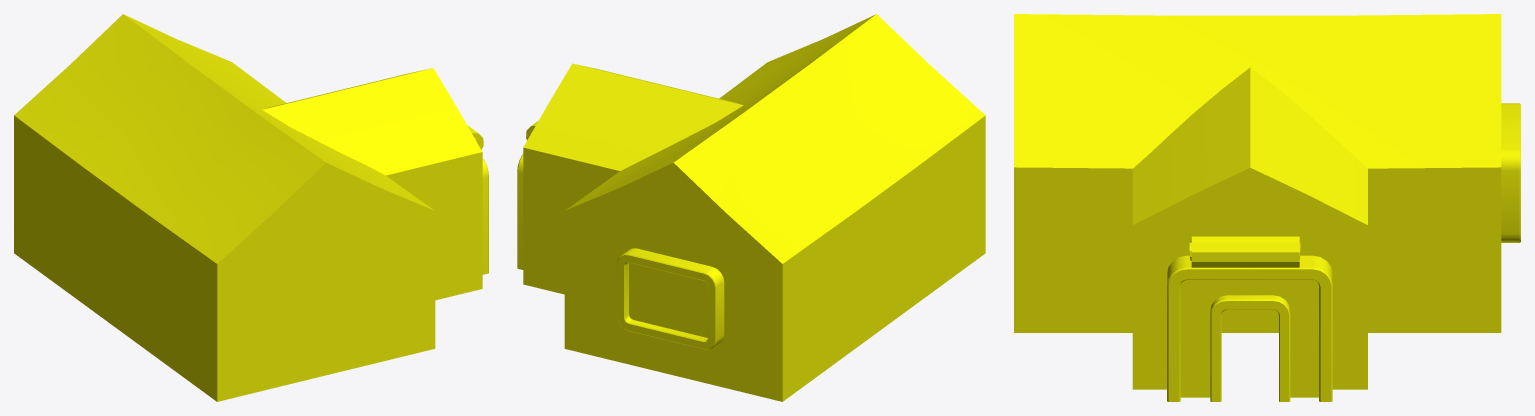
3 renders of one model, left to right at view 1: azimuth 30°, elevation 25°; view 2: azimuth 150°, elevation 25°; view 3: azimuth 270°, elevation 25°, orthographic. The views are drawn at different scales.
Visible parts, largest first — view 1: military_house; view 2: military_house; view 3: military_house.
Part boxes in pixels (<box>): military_house: <box>14,14,488,401</box>; military_house: <box>517,14,985,401</box>; military_house: <box>1014,14,1520,401</box>.
Size of the model in its own units: 0.05 by 0.0298 by 0.0537.
Materials: 1 (1 with a texture image).
